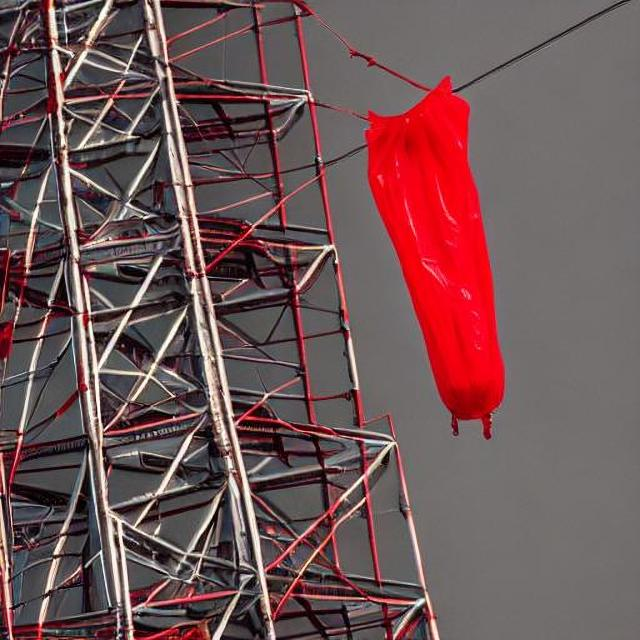floating object: (359, 63, 504, 436)
